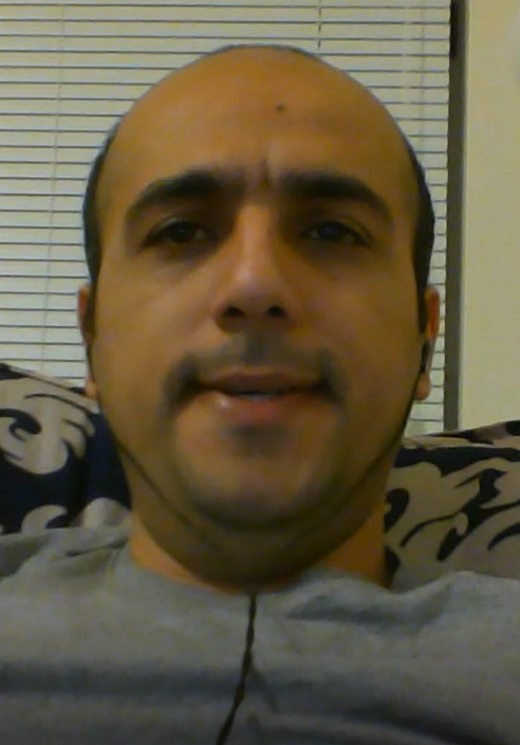Not Sleeping: (123, 168, 389, 277)
